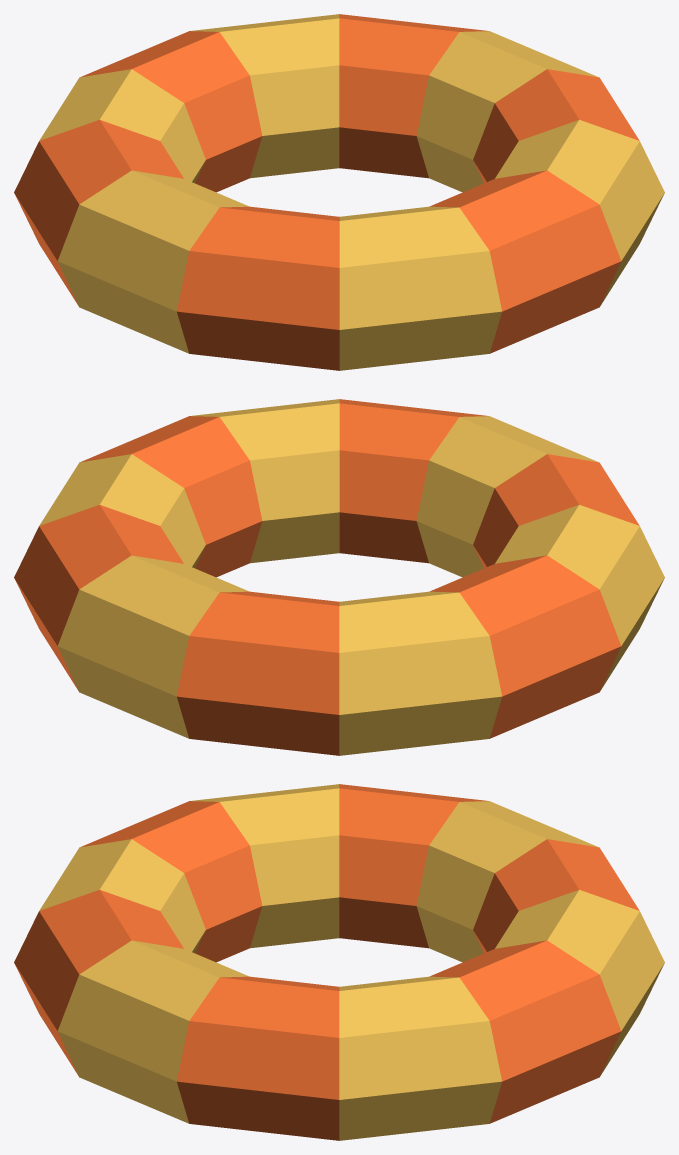
File: SwimmingRing_C.fbx
3 renders of one model, top to bottom at view 1: azimuth 30°, elevation 25°; view 2: azimuth 150°, elevation 25°; view 3: azimuth 270°, elevation 25°, orthographic.
Visible parts, largest first — view 1: SwimmingRing_C; view 2: SwimmingRing_C; view 3: SwimmingRing_C.
Boxes of the visible parts, x1,y1,x2,y2 form: SwimmingRing_C: [14, 14, 664, 370]; SwimmingRing_C: [14, 399, 664, 755]; SwimmingRing_C: [14, 784, 664, 1140].
Bounding box in the file's own units: 60 × 14.8 × 60.
